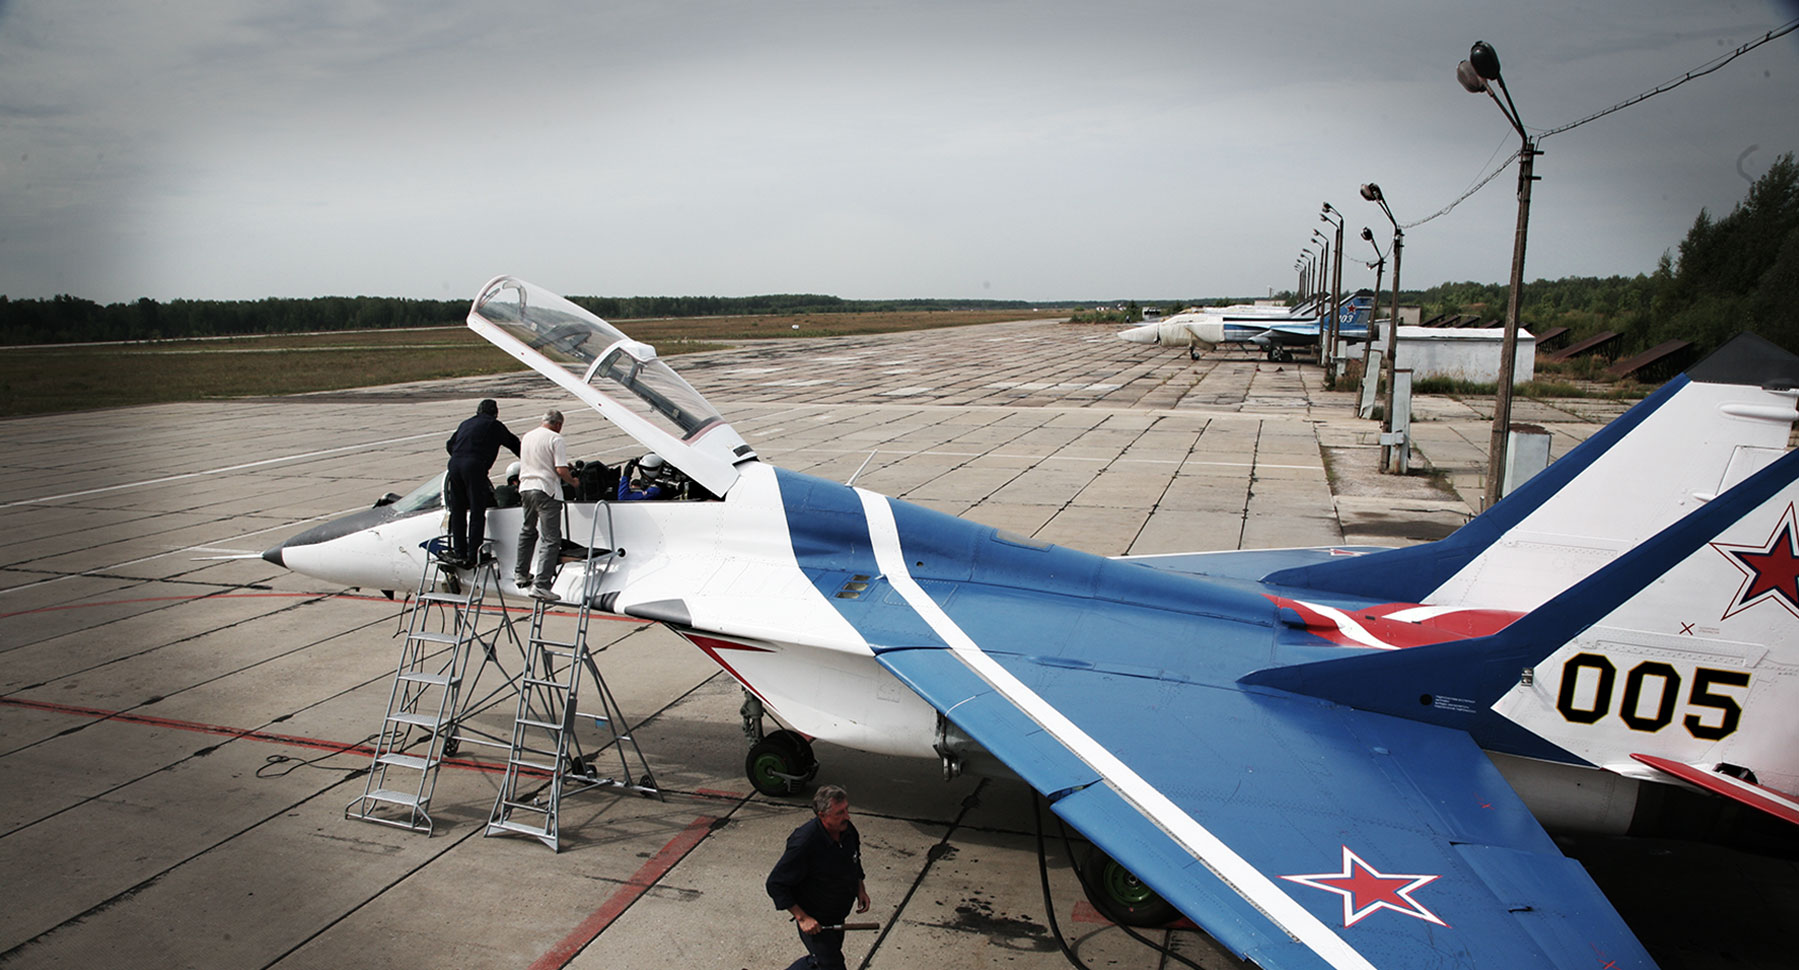Mig-29: (247, 268, 1761, 970)
